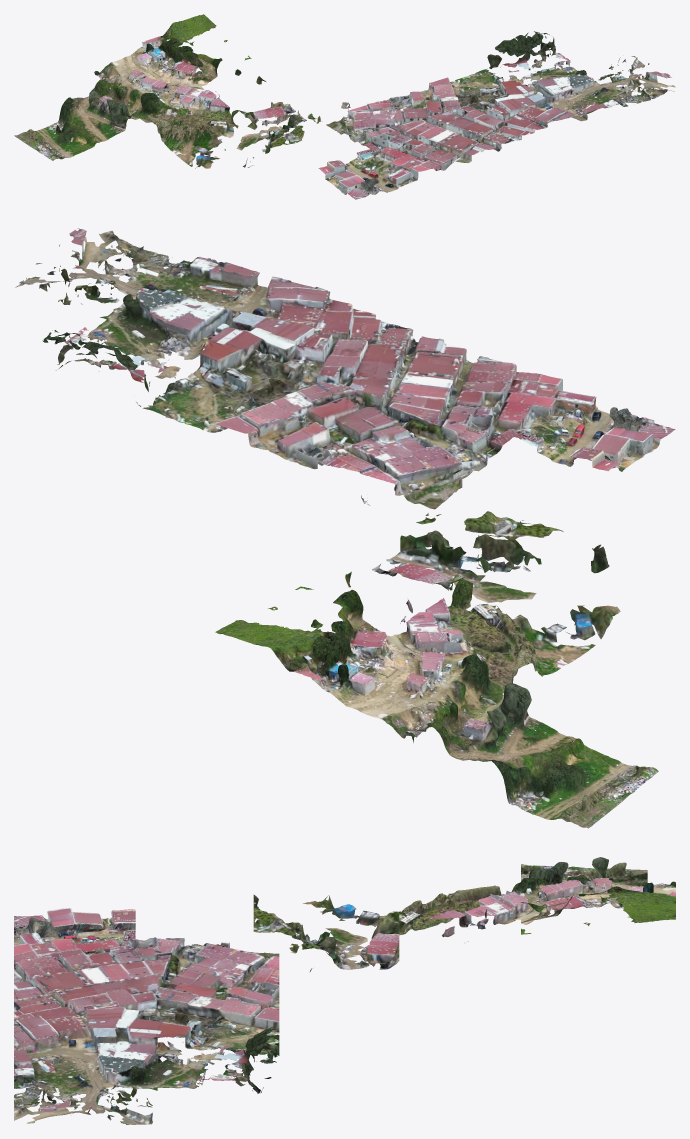
The model's file is bairro_09.glb.
3 views of the same model, one above another, from view 1: azimuth 30°, elevation 25°; view 2: azimuth 150°, elevation 25°; view 3: azimuth 270°, elevation 25° (orthographic). The views are drawn at different scales.
Visible parts, largest first — view 1: bairro_09; view 2: bairro_09; view 3: bairro_09.
Boxes of the visible parts, x1=… form: bairro_09: x1=14, y1=14, x2=675, y2=199; bairro_09: x1=15, y1=228, x2=675, y2=828; bairro_09: x1=14, y1=857, x2=675, y2=1124.
Size of the model in its own units: 231 by 42.53 by 173.
1 material, 1 textured.
